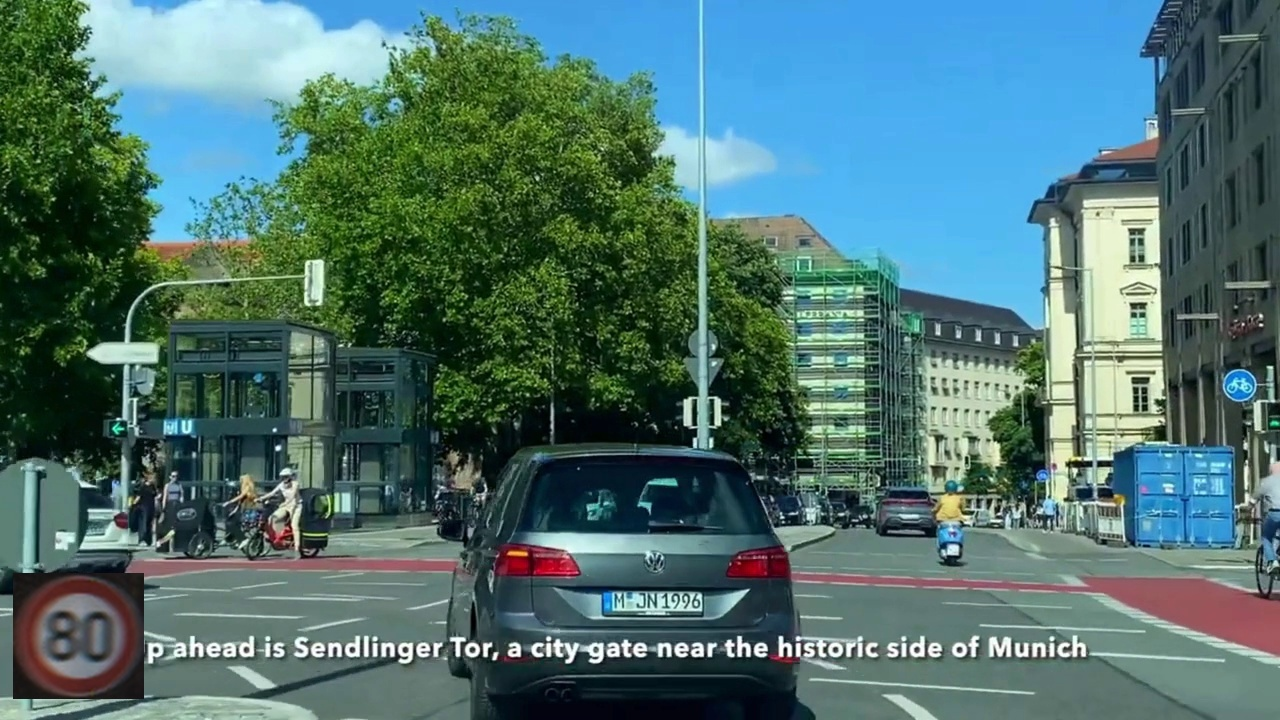Speed 80: (13, 573, 144, 699)
